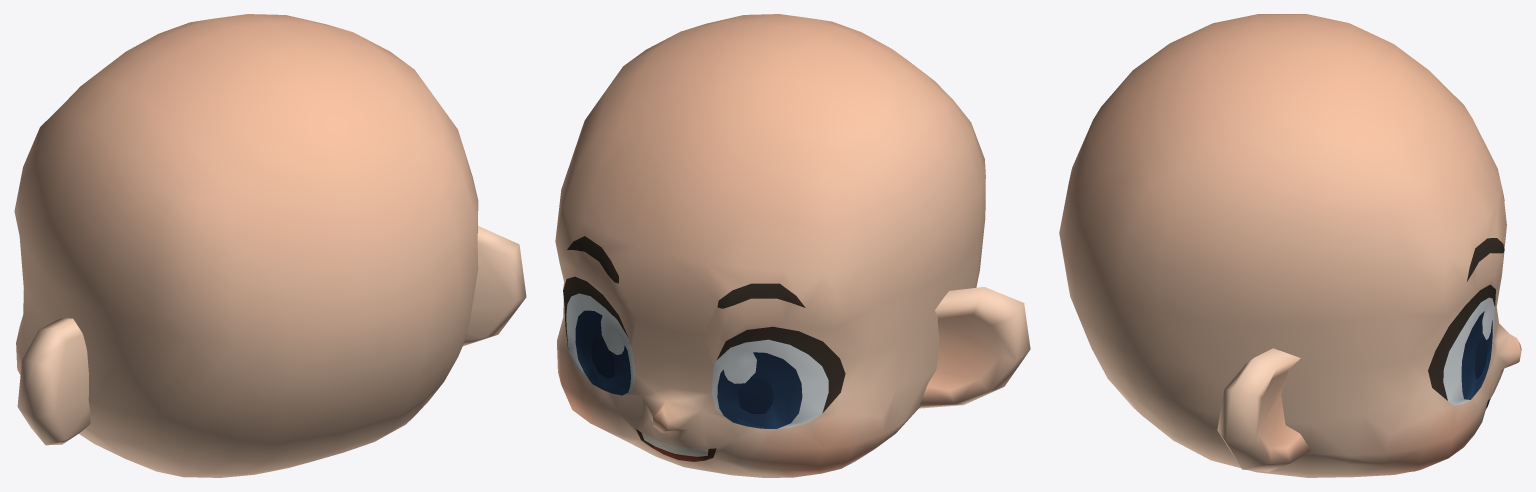
The model's file is FaceMale_4.fbx.
The picture shows the model from 3 angles, left to right: view 1: azimuth 30°, elevation 25°; view 2: azimuth 150°, elevation 25°; view 3: azimuth 270°, elevation 25°; orthographic projection. The views are drawn at different scales.
Visible parts, largest first — view 1: FaceMale_4; view 2: FaceMale_4; view 3: FaceMale_4.
Boxes of the visible parts, x1=… form: FaceMale_4: x1=14, y1=14, x2=526, y2=477; FaceMale_4: x1=555, y1=14, x2=1030, y2=477; FaceMale_4: x1=1059, y1=14, x2=1521, y2=477.
Bounding box in the file's own units: 81.66 × 66.4 × 68.58.
